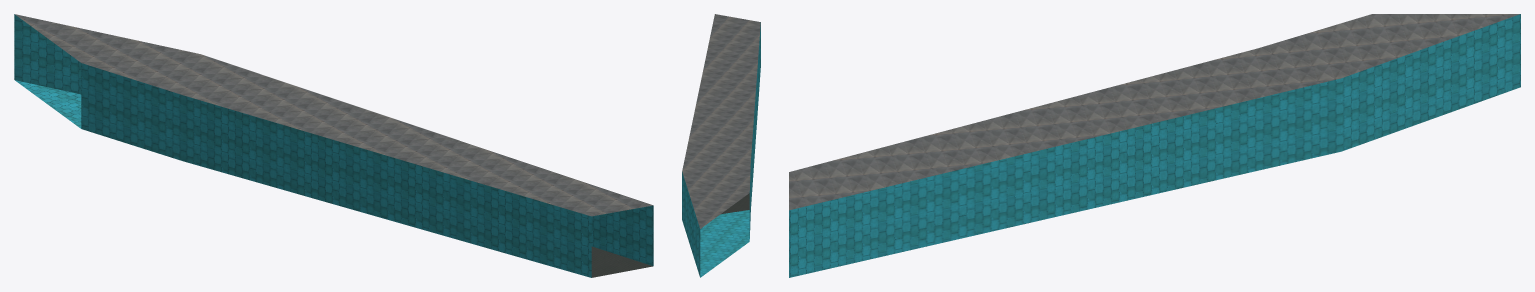
Rendered from east_corner_walkway.FBX.
3 renders of one model, left to right at view 1: azimuth 30°, elevation 25°; view 2: azimuth 150°, elevation 25°; view 3: azimuth 270°, elevation 25°, orthographic. The views are drawn at different scales.
Parts seen in each view (by area): view 1: East_Corner_Walkway; view 2: East_Corner_Walkway; view 3: East_Corner_Walkway.
Part boxes in pixels (box(x1,y1,x2,y2)): East_Corner_Walkway: box(14, 14, 653, 277); East_Corner_Walkway: box(682, 14, 760, 277); East_Corner_Walkway: box(789, 14, 1520, 277).
Size of the model in its own units: 348 by 92.99 by 641.
